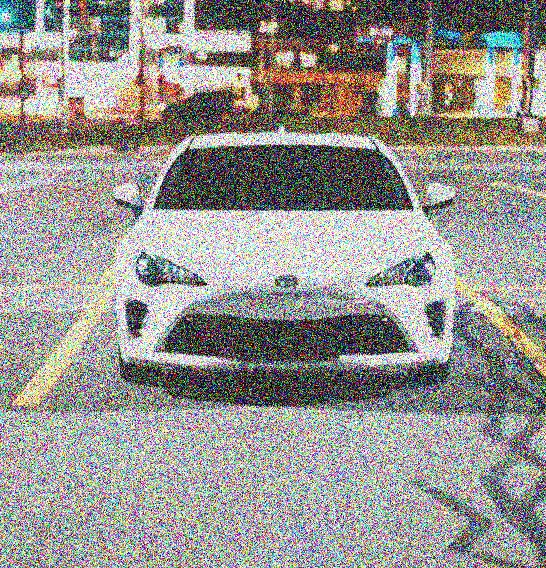car: (98, 100, 472, 417)
